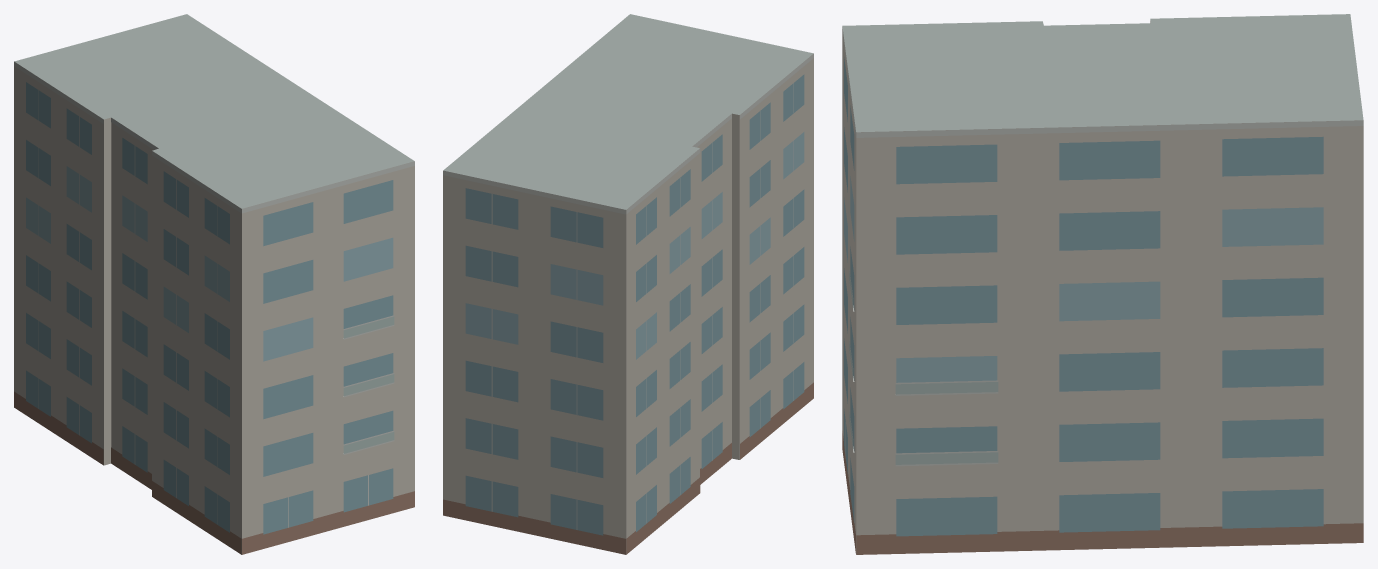
Rendered from survey-upis-32998771.glb.
3 views of the same model, side by side, from view 1: azimuth 30°, elevation 25°; view 2: azimuth 150°, elevation 25°; view 3: azimuth 270°, elevation 25° (orthographic). The views are drawn at different scales.
Visible parts, largest first — view 1: survey-upis-32998771.tmp; view 2: survey-upis-32998771.tmp; view 3: survey-upis-32998771.tmp.
Boxes of the visible parts, x1=… form: survey-upis-32998771.tmp: x1=14, y1=14, x2=414, y2=554; survey-upis-32998771.tmp: x1=443, y1=14, x2=813, y2=554; survey-upis-32998771.tmp: x1=842, y1=14, x2=1363, y2=554.
Bounding box in the file's own units: 10.75 × 17.9 × 20.02.
